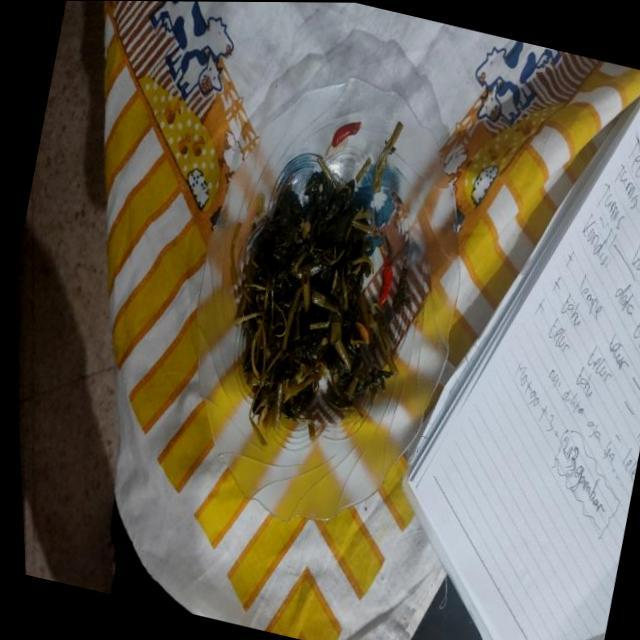tumis_kangkung: (238, 169, 396, 422)
